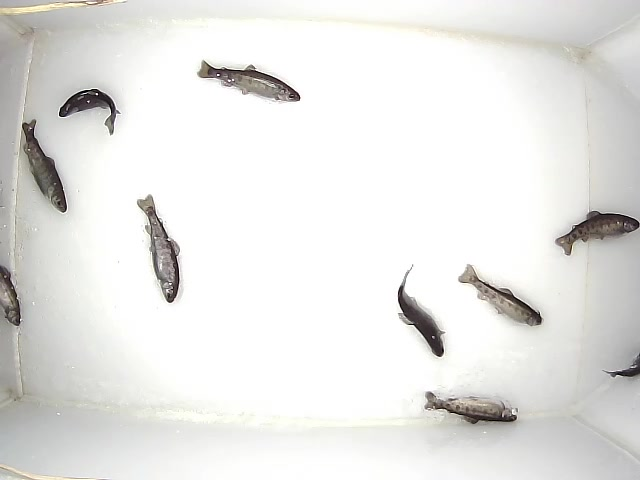fish: (458, 264, 544, 326), (137, 194, 180, 303), (398, 264, 446, 357), (197, 60, 300, 102), (22, 119, 67, 213), (555, 211, 640, 256), (424, 391, 518, 424), (58, 89, 121, 136), (1, 264, 21, 327), (602, 351, 640, 378)
